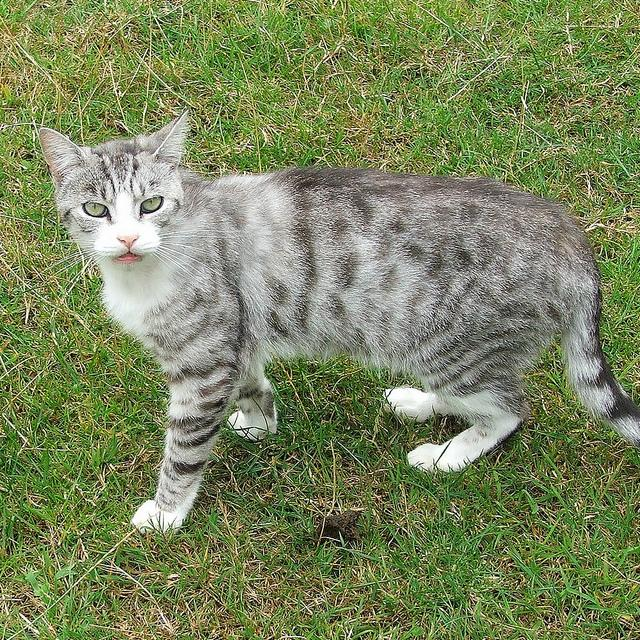animals: (42, 111, 186, 248)
